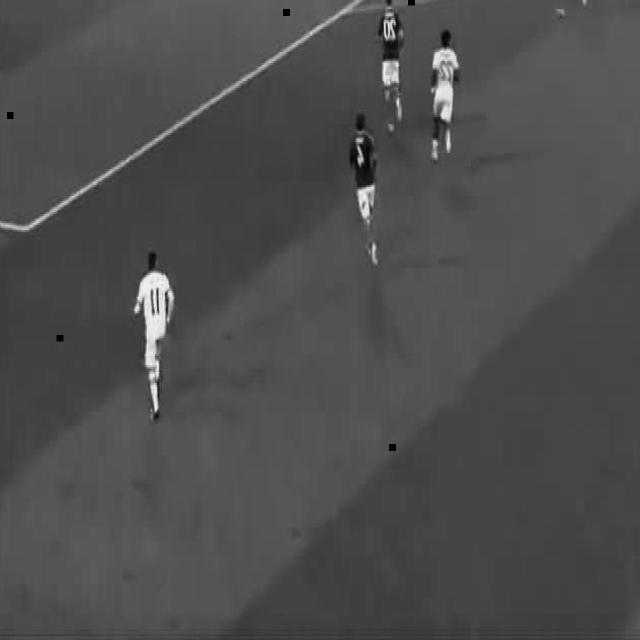player-white: (134, 254, 174, 418), (349, 114, 383, 268), (379, 0, 409, 133), (430, 29, 459, 162), (554, 0, 590, 18)
